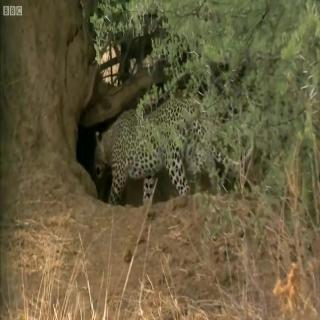Leopard: (76, 92, 230, 206)
